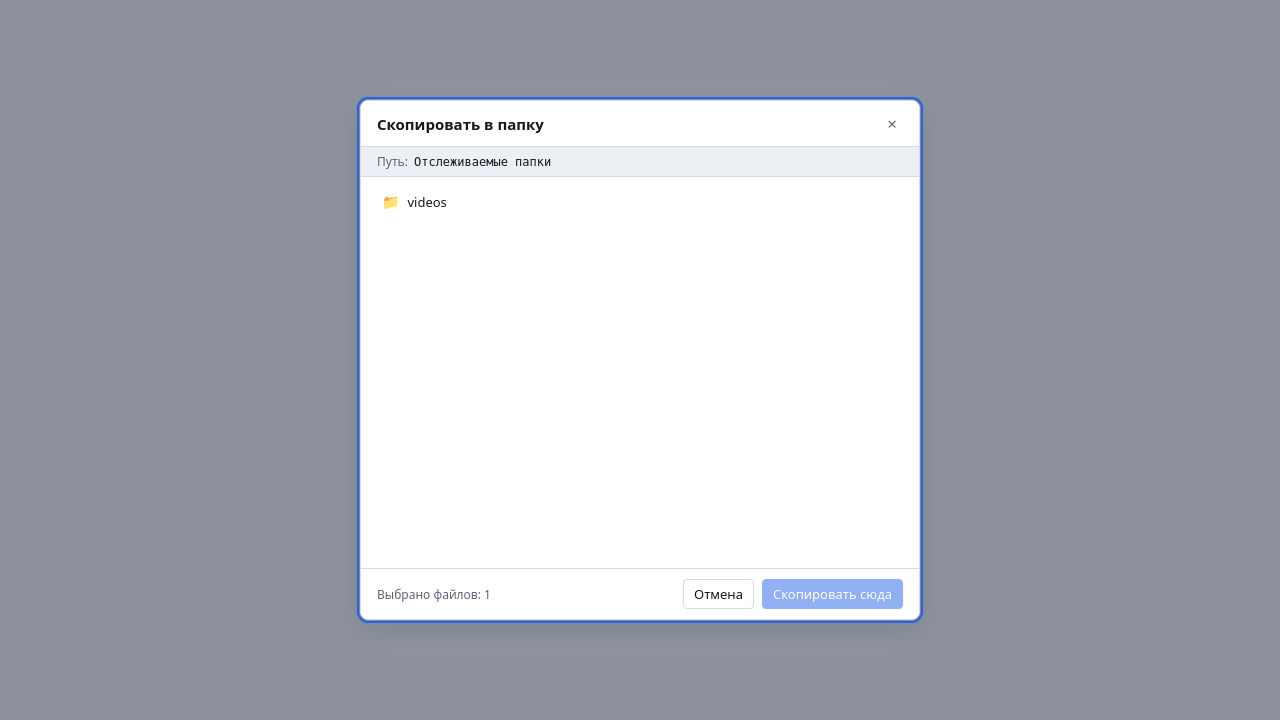
Test: FolderPickerDialog › навигируется по fsList: корни → подпапка → «↑ На уровень выше»
Стартовой папки нет (видео не выбрано) — показываем watched roots.
Click the button "📁 videos": (427, 202) [373,185,907,218]
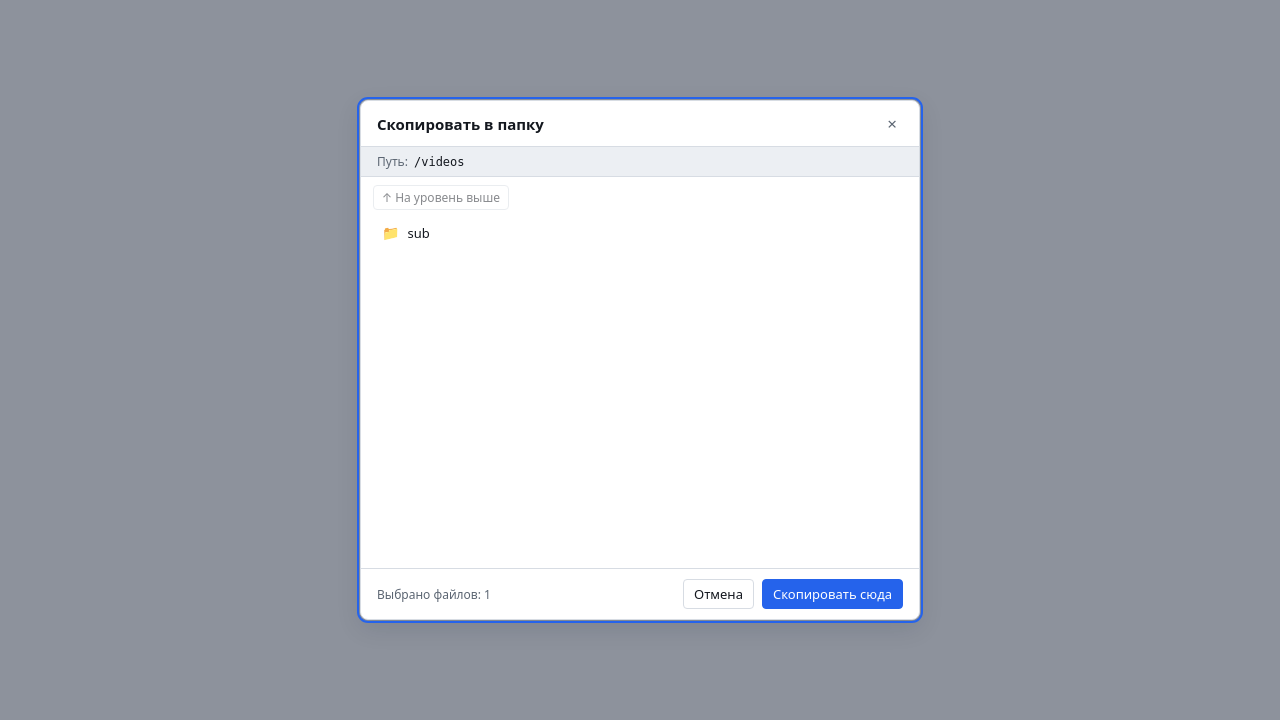
Click the button "📁 sub": (391, 232) [373,216,907,249]
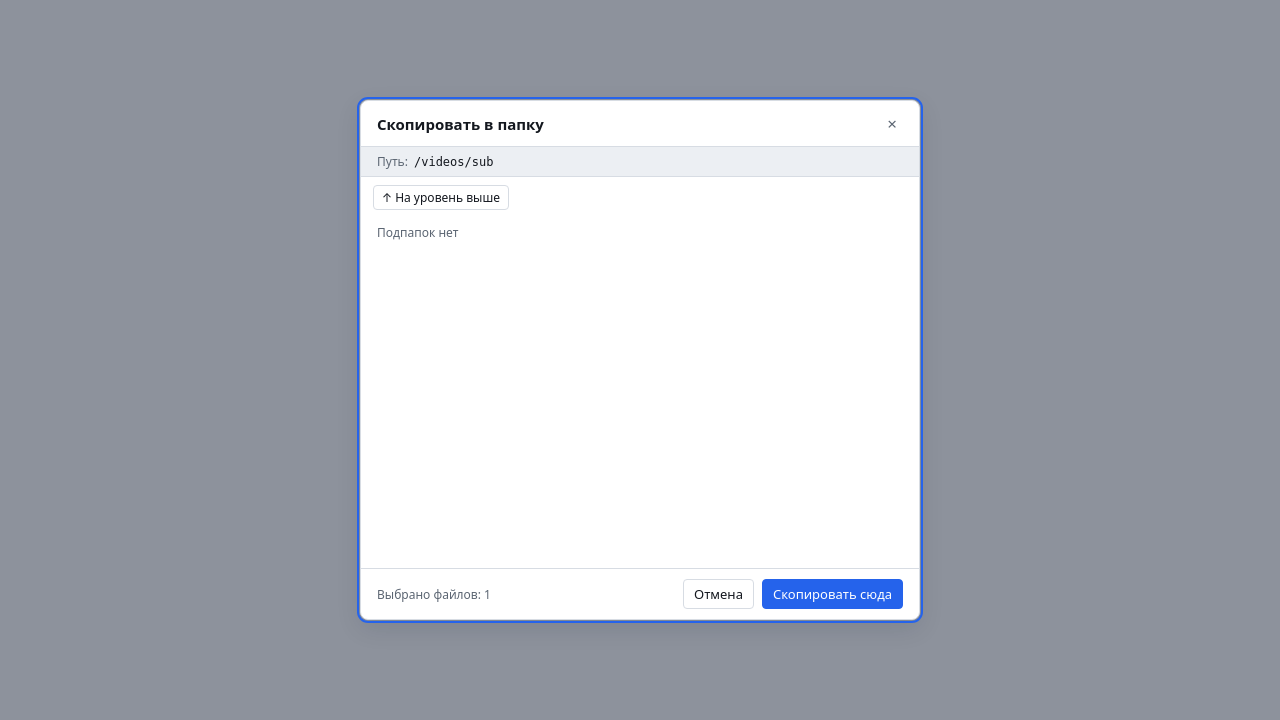
Expected: the button "↑ На уровень выше" is enabled
Click the button "↑ На уровень выше": (441, 198) [373,185,509,210]
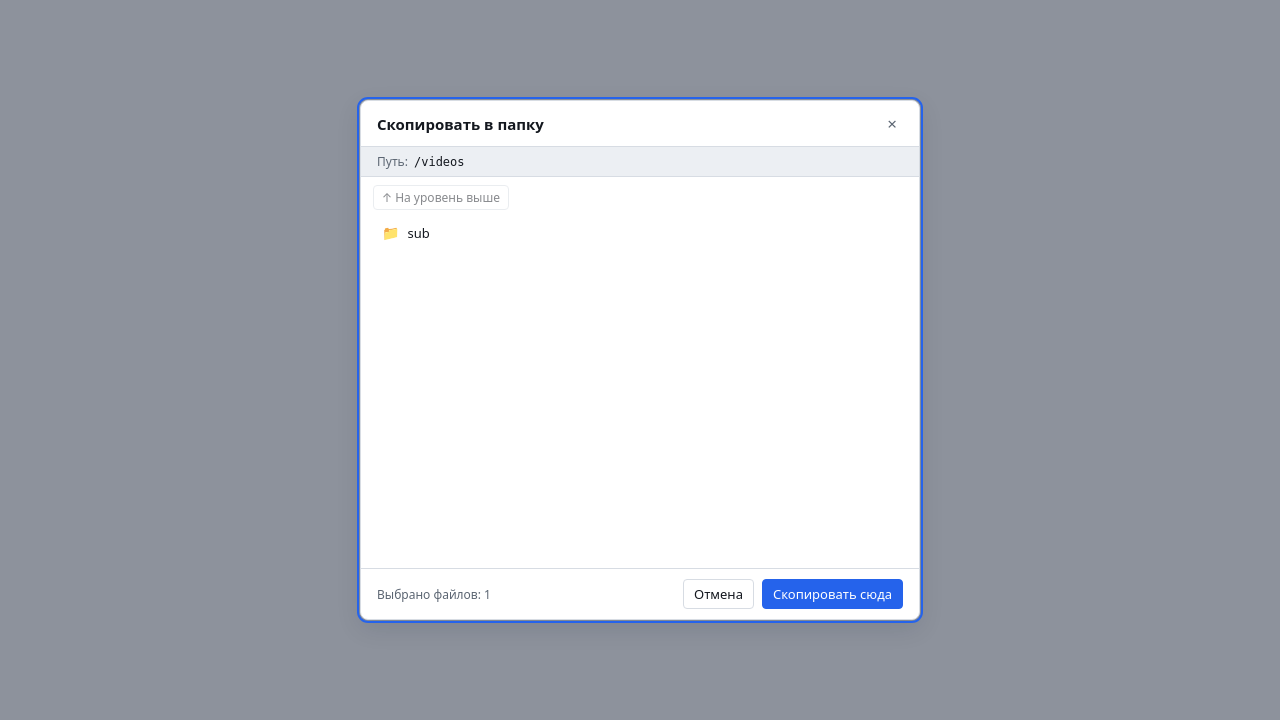
Expected: the button "↑ На уровень выше" is disabled, [373,185,509,210]
